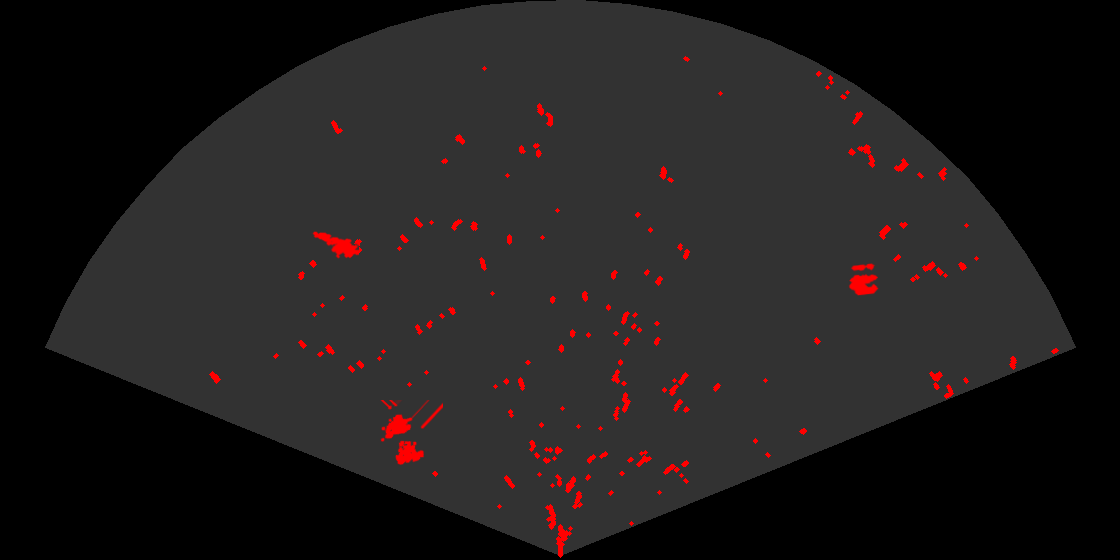ball: (847, 262, 880, 297)
cage: (379, 400, 443, 467)
frogman: (310, 230, 359, 260)
